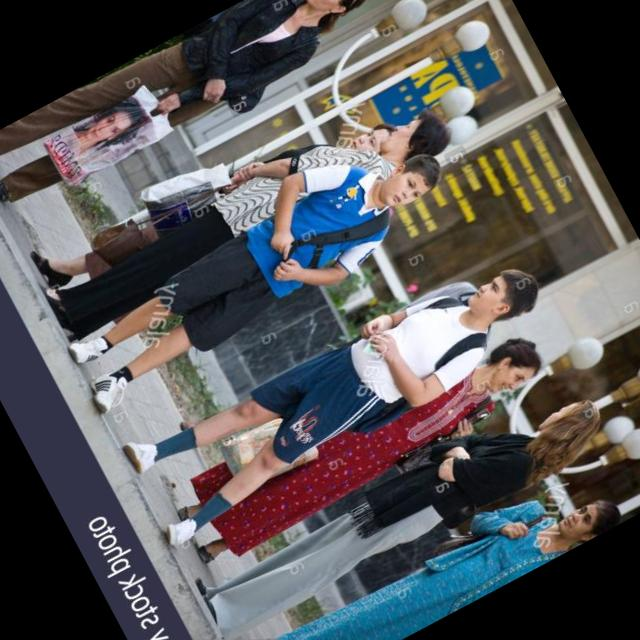bareface: (461, 261, 544, 332), (528, 388, 606, 458), (477, 335, 545, 397), (376, 157, 449, 212), (555, 494, 619, 550), (376, 113, 430, 157), (298, 0, 363, 25), (342, 121, 384, 157)
